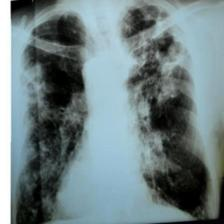tuberculosis: (16, 4, 211, 224)
